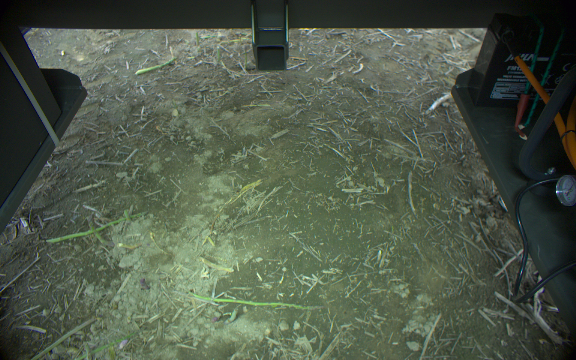aspa: (44, 210, 152, 264), (186, 285, 325, 313), (133, 54, 179, 76), (83, 213, 106, 248), (120, 207, 135, 223)
